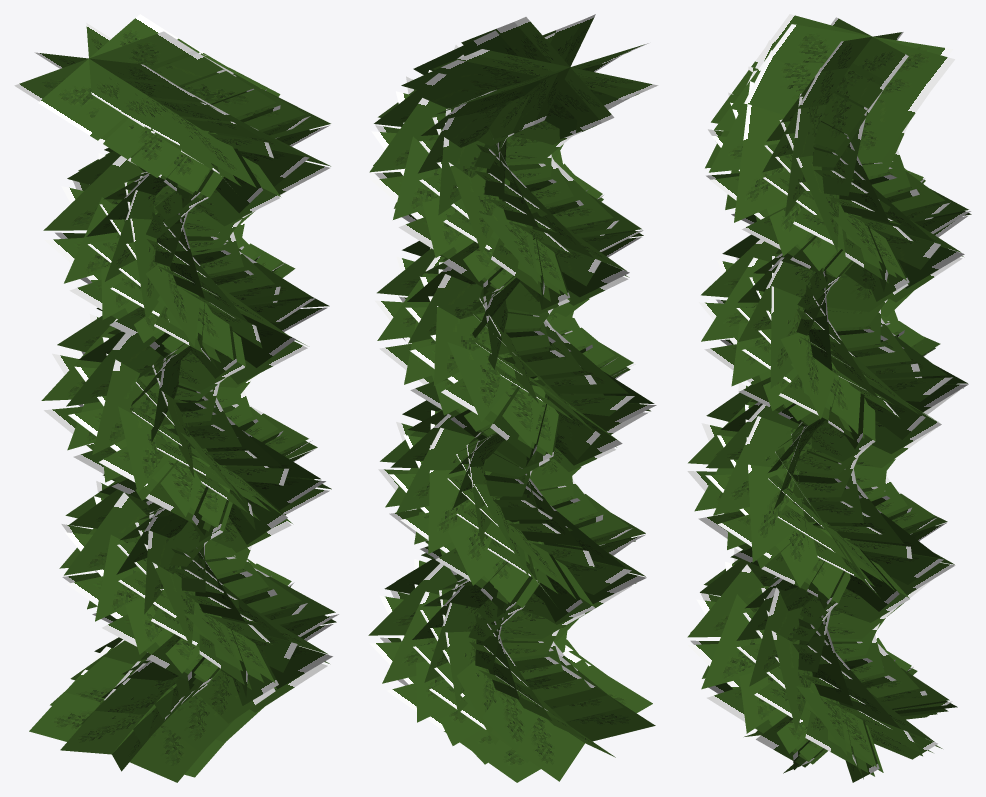
File: Julslinga.fbx
3 views of the same model, side by side, from view 1: azimuth 30°, elevation 25°; view 2: azimuth 150°, elevation 25°; view 3: azimuth 270°, elevation 25° (orthographic).
Parts seen in each view (by area): view 1: Plane.013; view 2: Plane.013; view 3: Plane.013.
Boxes of the visible parts, x1,y1,x2,y2 form: Plane.013: (14,14,338,782); Plane.013: (368,14,658,782); Plane.013: (687,14,971,782).
Size of the model in its own units: 202 by 503 by 176.
Materials: 1 (1 with a texture image).
